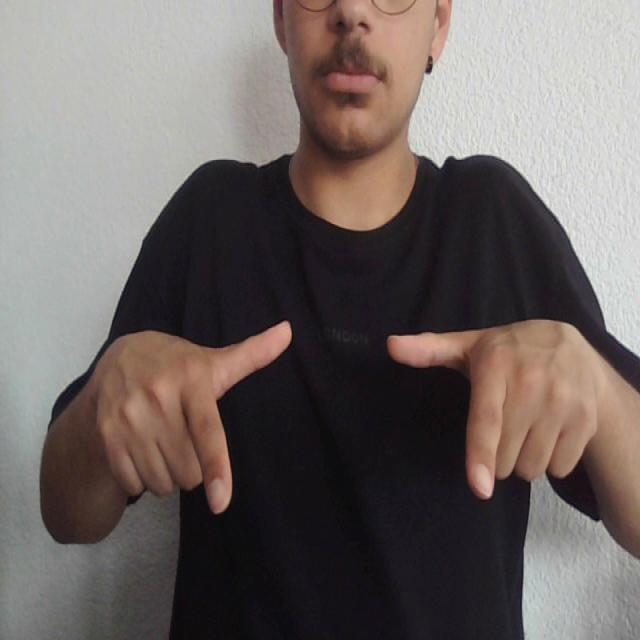Nerede: (180, 313, 509, 522)
